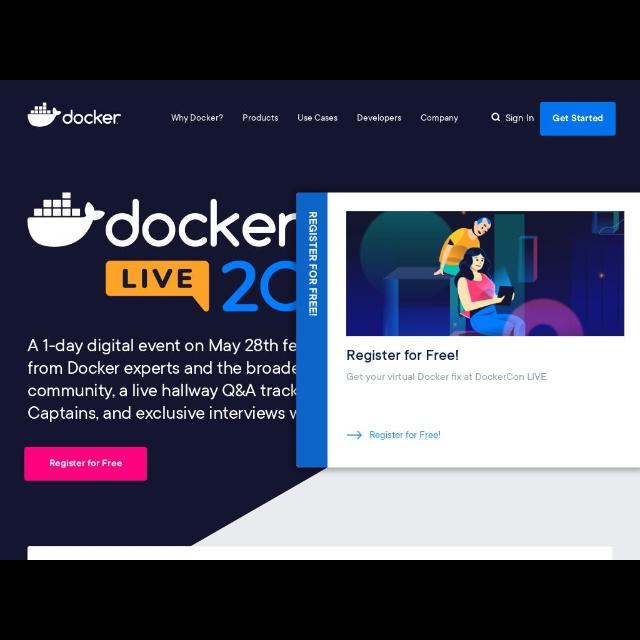icon: (492, 113, 501, 121)
image: (347, 212, 625, 336), (26, 192, 298, 312), (28, 103, 122, 127)
text: (28, 339, 296, 423), (348, 373, 548, 381), (348, 351, 458, 363), (309, 212, 317, 316), (50, 460, 121, 468), (172, 115, 222, 123), (357, 115, 401, 123), (553, 115, 603, 122), (420, 115, 458, 124), (298, 115, 338, 122), (506, 115, 534, 124), (244, 115, 278, 122)
textbutton: (24, 447, 146, 481), (540, 102, 616, 136)
